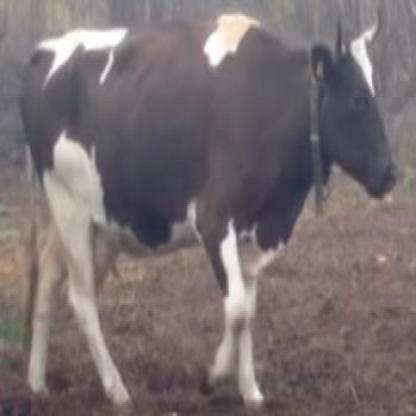cow: (20, 6, 398, 416)
